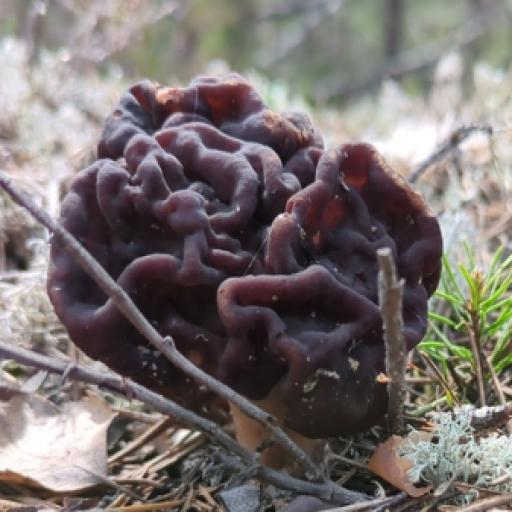mushroom: (50, 72, 447, 444)
